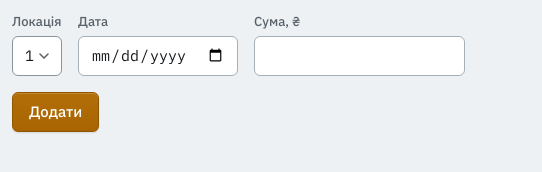
Test: revenue form › surfaces the API conflict message rather than a generic error
The width and height of the screenshot is (542, 172).
Type "2026-05-06" into the date field labelled "Дата".
click(158, 56); type("2026-05-06")  # box [78,36,238,76]
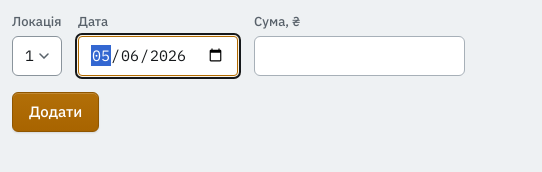
Type "1" into the number field labelled "Сума, ₴".
click(360, 56); type("1")  # box [254,36,465,76]
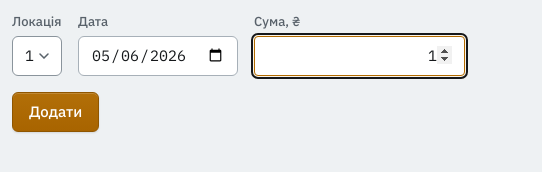
Click the button "Додати".
click(56, 112)  # box [12,92,99,132]
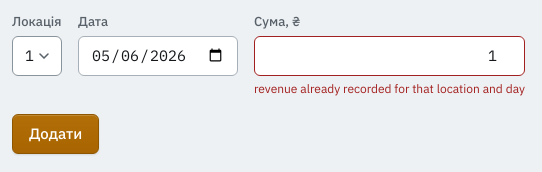
Now the text "revenue already recorded for that location and day" is shown, box [254,80,525,98]
